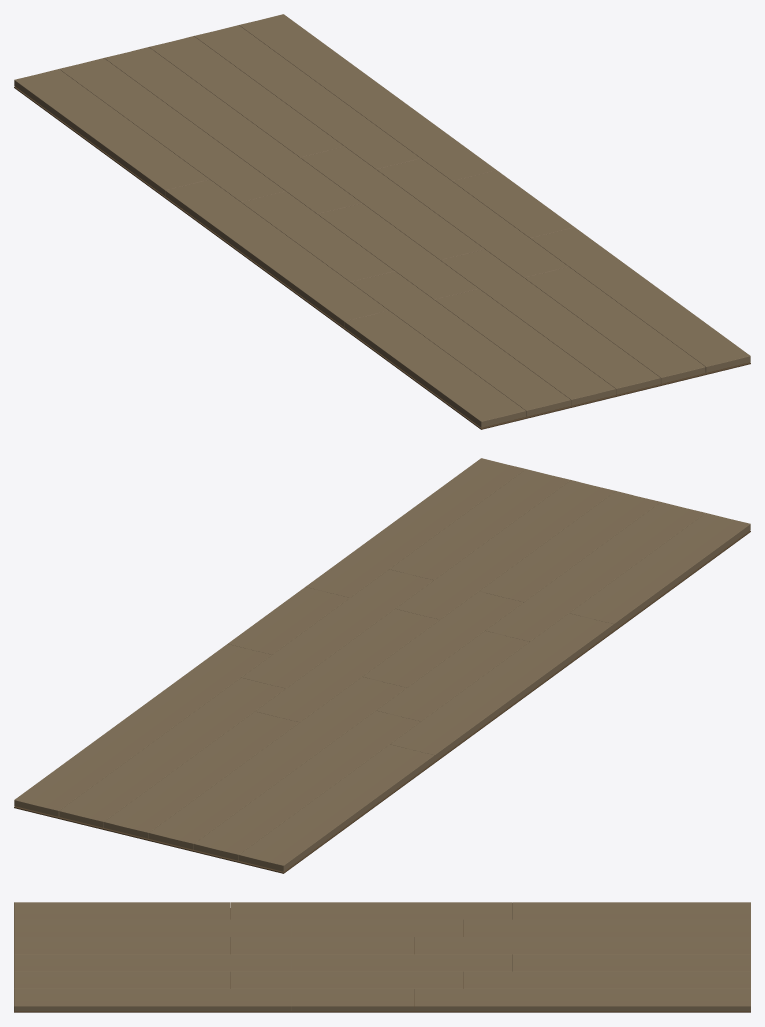
The model's file is floor-course-lod1.fbx.
3 renders of one model, top to bottom at view 1: azimuth 30°, elevation 25°; view 2: azimuth 150°, elevation 25°; view 3: azimuth 270°, elevation 25°, orthographic. The views are drawn at different scales.
Visible parts, largest first — view 1: Staggered cupped floorboard.006, Staggered cupped floorboard.015, Staggered cupped floorboard.001, Staggered cupped floorboard.003, Staggered cupped floorboard.012, Staggered cupped floorboard.017, Staggered cupped floorboard.005, Staggered cupped floorboard.011, Staggered cupped floorboard, Staggered cupped floorboard.002, Staggered cupped floorboard.009, Staggered cupped floorboard.013 (+7 smaller); view 2: Staggered cupped floorboard.015, Staggered cupped floorboard.006, Staggered cupped floorboard.001, Staggered cupped floorboard.012, Staggered cupped floorboard.003, Staggered cupped floorboard, Staggered cupped floorboard.011, Staggered cupped floorboard.005, Staggered cupped floorboard.017, Staggered cupped floorboard.009, Staggered cupped floorboard.002, Staggered cupped floorboard.013 (+7 smaller); view 3: Staggered cupped floorboard.015, Staggered cupped floorboard.017, Staggered cupped floorboard.006, Staggered cupped floorboard.003, Staggered cupped floorboard.012, Staggered cupped floorboard.001, Staggered cupped floorboard.005, Staggered cupped floorboard.011, Staggered cupped floorboard.009, Staggered cupped floorboard, Staggered cupped floorboard.013, Staggered cupped floorboard.010 (+7 smaller).
Part boxes in pixels (<box>): Staggered cupped floorboard.006: <box>104,47,361,213</box>; Staggered cupped floorboard.015: <box>239,14,496,181</box>; Staggered cupped floorboard.001: <box>165,179,388,326</box>; Staggered cupped floorboard.003: <box>59,58,285,202</box>; Staggered cupped floorboard.012: <box>194,25,420,169</box>; Staggered cupped floorboard.017: <box>530,227,750,372</box>; Staggered cupped floorboard.005: <box>350,271,570,416</box>; Staggered cupped floorboard.011: <box>440,249,660,394</box>; Staggered cupped floorboard: <box>14,69,209,195</box>; Staggered cupped floorboard.002: <box>344,310,525,427</box>; Staggered cupped floorboard.009: <box>149,36,344,157</box>; Staggered cupped floorboard.013: <box>376,158,568,277</box>; Staggered cupped floorboard.015: <box>14,644,271,816</box>; Staggered cupped floorboard.006: <box>149,677,406,849</box>; Staggered cupped floorboard.001: <box>390,613,613,760</box>; Staggered cupped floorboard.012: <box>59,677,285,827</box>; Staggered cupped floorboard.003: <box>194,710,420,860</box>; Staggered cupped floorboard: <box>239,744,434,871</box>; Staggered cupped floorboard.011: <box>395,480,615,619</box>; Staggered cupped floorboard.005: <box>485,502,705,641</box>; Staggered cupped floorboard.017: <box>305,458,525,597</box>; Staggered cupped floorboard.009: <box>104,711,299,838</box>; Staggered cupped floorboard.002: <box>569,513,750,629</box>; Staggered cupped floorboard.013: <box>241,569,433,688</box>; Staggered cupped floorboard.015: <box>414,989,750,1010</box>; Staggered cupped floorboard.017: <box>14,989,291,1010</box>; Staggered cupped floorboard.006: <box>414,937,750,954</box>; Staggered cupped floorboard.003: <box>463,919,750,936</box>; Staggered cupped floorboard.012: <box>463,971,750,988</box>; Staggered cupped floorboard.001: <box>230,902,512,923</box>; Staggered cupped floorboard.005: <box>14,919,291,941</box>; Staggered cupped floorboard.011: <box>14,954,291,975</box>; Staggered cupped floorboard.009: <box>512,954,750,971</box>; Staggered cupped floorboard: <box>512,902,750,919</box>; Staggered cupped floorboard.013: <box>230,971,463,993</box>; Staggered cupped floorboard.010: <box>291,954,512,975</box>.
Size of the model in its own units: 100 by 2.9 by 300.
